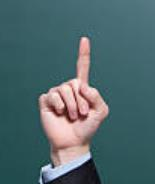up: (37, 35, 111, 150)
